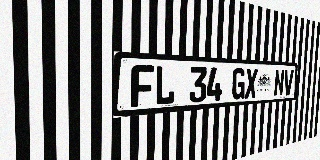3: (189, 67, 207, 103)
4: (206, 67, 223, 102)
F: (131, 65, 154, 107)
G: (231, 68, 246, 100)
L: (154, 65, 175, 106)
N: (273, 69, 285, 96)
V: (283, 70, 294, 96)
X: (245, 68, 258, 99)
